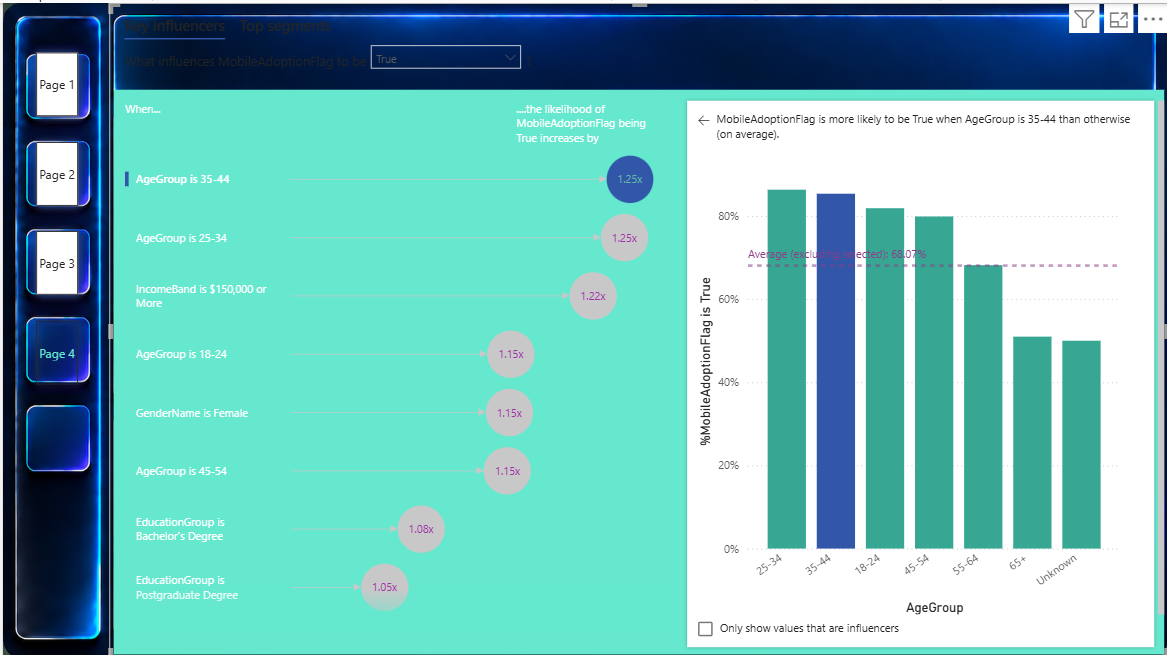

This screenshot's page, from the dashboard's own definition file:
{"tool":"powerbi","page":{"name":"Page 4","canvas":[1280,720],"ordinal":3},"visuals":[{"type":"keyDriversVisual","fields":{"Target":["analytics DimConsumer.MobileAdoptionFlag"],"ExplainBy":["analytics DimConsumer.AgeGroup","analytics DimConsumer.IncomeBand","analytics DimConsumer.EducationGroup","analytics DimConsumer.GenderName"]},"box":[116.1,0,1164.2,720.5],"z":0},{"type":"pageNavigator","box":[26.8,44.7,64,384.1],"z":1}]}

Visuals, with their boxes in screenshot pixels (x1, y1, x2, y2):
keyDriversVisual - analytics DimConsumer.MobileAdoptionFlag x analytics DimConsumer.AgeGroup: 114/0/1160/648
pageNavigator: 33/40/91/386
